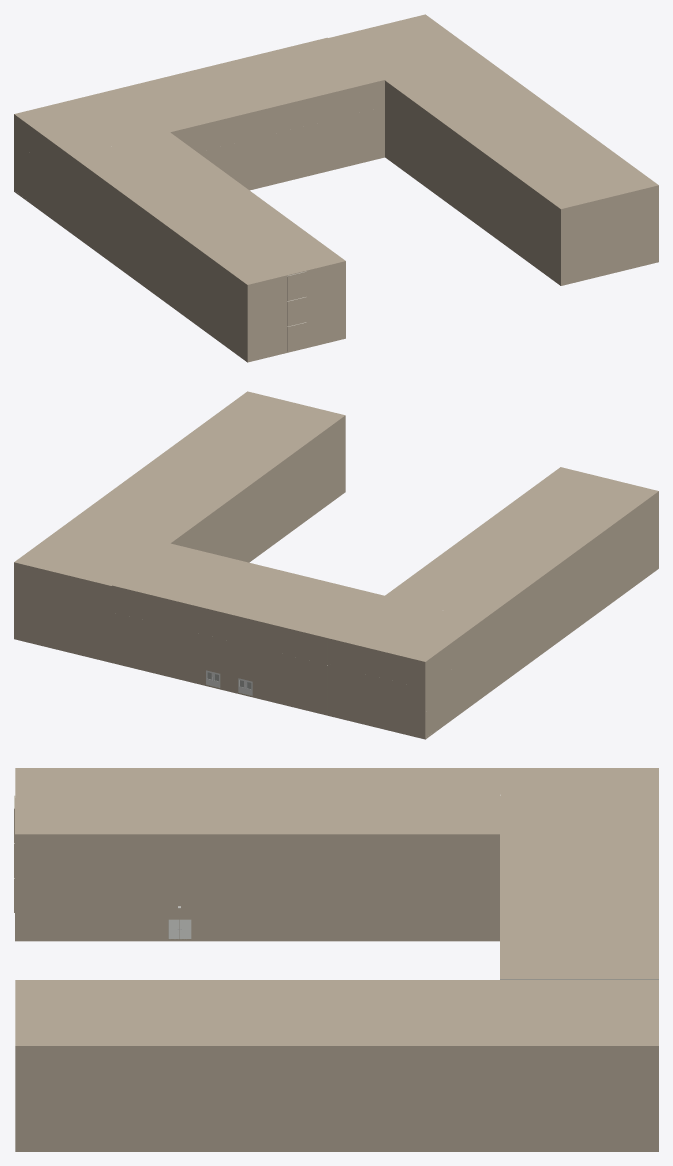
File: Hospital.fbx
3 views of the same model, one above another, from view 1: azimuth 30°, elevation 25°; view 2: azimuth 150°, elevation 25°; view 3: azimuth 270°, elevation 25° (orthographic). The views are drawn at different scales.
Visible parts, largest first — view 1: ЗАЛУУУПА, Roof, Плоскость.006, Плоскость.002, Плоскость.010, Plane.040, Plane.012, Комната 313, Plane.013, Plane.041, Plane.027, F2_Slab_Backup (+15 smaller); view 2: ЗАЛУУУПА, Roof, перевязочная.013, перевязочная.006, перевязочная.020, Плоскость.007, перевязочная.005, перевязочная.009, перевязочная.012, перевязочная.019, перевязочная.002, перевязочная.003 (+18 smaller); view 3: ЗАЛУУУПА, Roof, процедурная, процедурная.001, процедурная.002, Plane.035, Плоскость, Плоскость.003, Плоскость.008, Plane.036, Plane.041, Plane.006 (+19 smaller).
Part boxes in pixels (left/top/right/bottom): ЗАЛУУУПА: left=328, top=14, right=658, bottom=285; Roof: left=14, top=37, right=385, bottom=286; Плоскость.006: left=172, top=81, right=384, bottom=151; Плоскость.002: left=198, top=106, right=384, bottom=170; Плоскость.010: left=224, top=132, right=384, bottom=189; Plane.040: left=225, top=321, right=286, bottom=360; Plane.012: left=230, top=299, right=286, bottom=335; Комната 313: left=230, top=273, right=286, bottom=310; Plane.013: left=307, top=288, right=345, bottom=321; Plane.041: left=307, top=313, right=345, bottom=346; Plane.027: left=307, top=262, right=345, bottom=295; F2_Slab_Backup: left=14, top=156, right=384, bottom=362; ЗАЛУУУПА: left=14, top=391, right=345, bottom=662; Roof: left=112, top=467, right=658, bottom=663; перевязочная.013: left=347, top=644, right=439, bottom=687; перевязочная.006: left=347, top=670, right=439, bottom=712; перевязочная.020: left=347, top=695, right=439, bottom=737; Плоскость.007: left=182, top=655, right=275, bottom=701; перевязочная.005: left=112, top=612, right=164, bottom=648; перевязочная.009: left=234, top=617, right=286, bottom=653; перевязочная.012: left=112, top=587, right=164, bottom=623; перевязочная.019: left=112, top=638, right=164, bottom=674; перевязочная.002: left=234, top=642, right=286, bottom=678; перевязочная.003: left=182, top=629, right=234, bottom=665; ЗАЛУУУПА: left=15, top=980, right=658, bottom=1151; Roof: left=15, top=768, right=658, bottom=979; процедурная: left=203, top=870, right=291, bottom=904; процедурная.001: left=203, top=835, right=291, bottom=869; процедурная.002: left=203, top=905, right=291, bottom=939; Plane.035: left=357, top=905, right=432, bottom=939; Плоскость: left=14, top=843, right=499, bottom=904; Плоскость.003: left=14, top=795, right=499, bottom=869; Плоскость.008: left=14, top=878, right=499, bottom=939; Plane.036: left=292, top=906, right=357, bottom=939; Plane.041: left=15, top=905, right=61, bottom=939; Plane.006: left=339, top=870, right=385, bottom=904.
Bounding box in the file's own units: 62.69 × 11.3 × 61.72.
